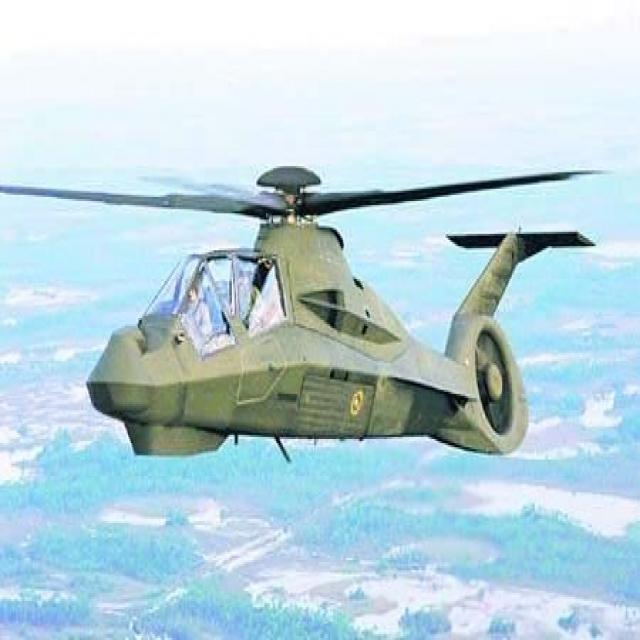MIL_HELO: (1, 143, 638, 473)
